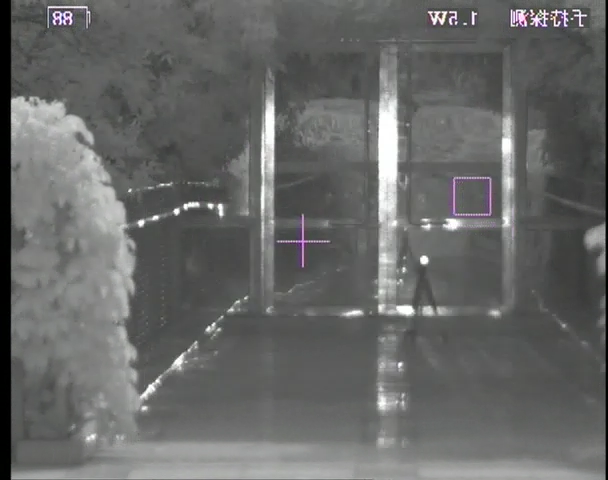my: (419, 255, 430, 266)
